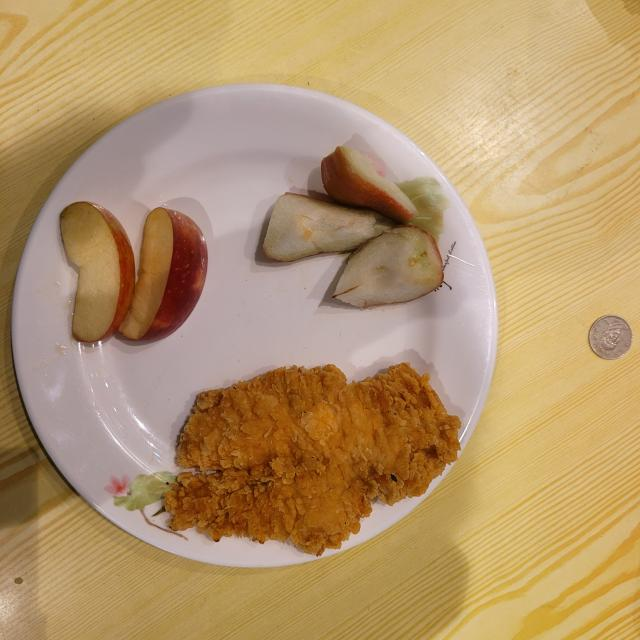apple -sliced-: (60, 201, 208, 342)
coin: (589, 315, 632, 360)
fried chicken cutlet: (165, 364, 460, 555)
